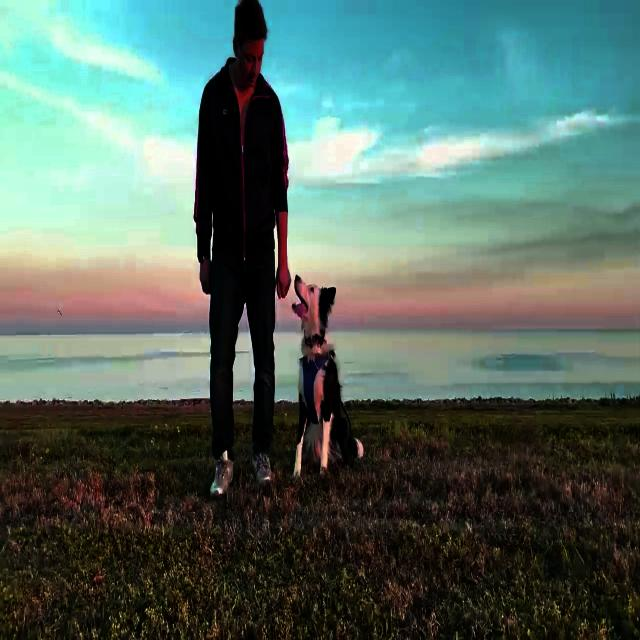Unleashed_Dog: (216, 262, 364, 478)
